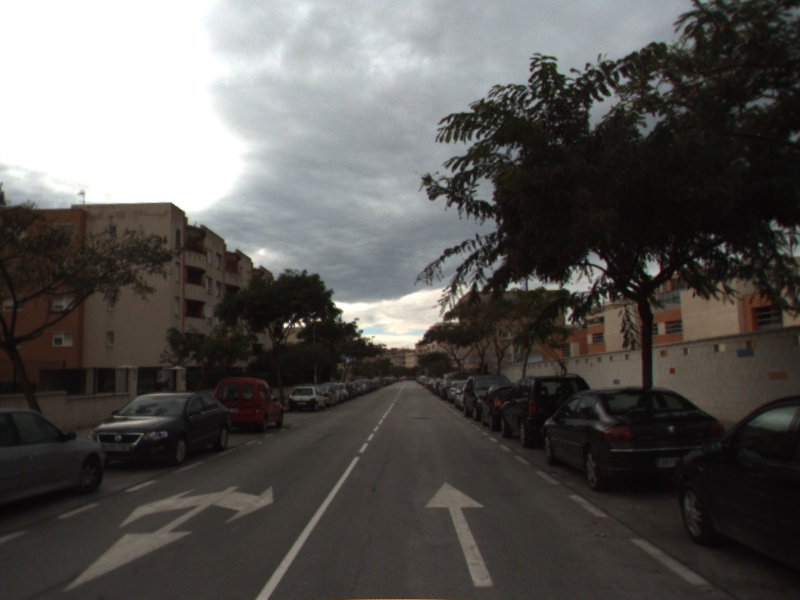STRAIGHT: (422, 479, 498, 589)
